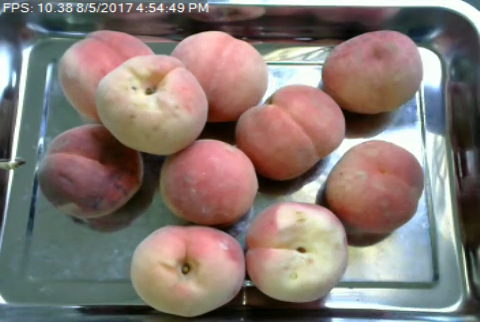Peach: (130, 223, 244, 318), (98, 54, 205, 155), (244, 201, 349, 303), (235, 85, 344, 182), (54, 27, 154, 128), (325, 138, 424, 237), (167, 27, 271, 119), (41, 123, 142, 217), (321, 28, 422, 115), (160, 138, 258, 226)
